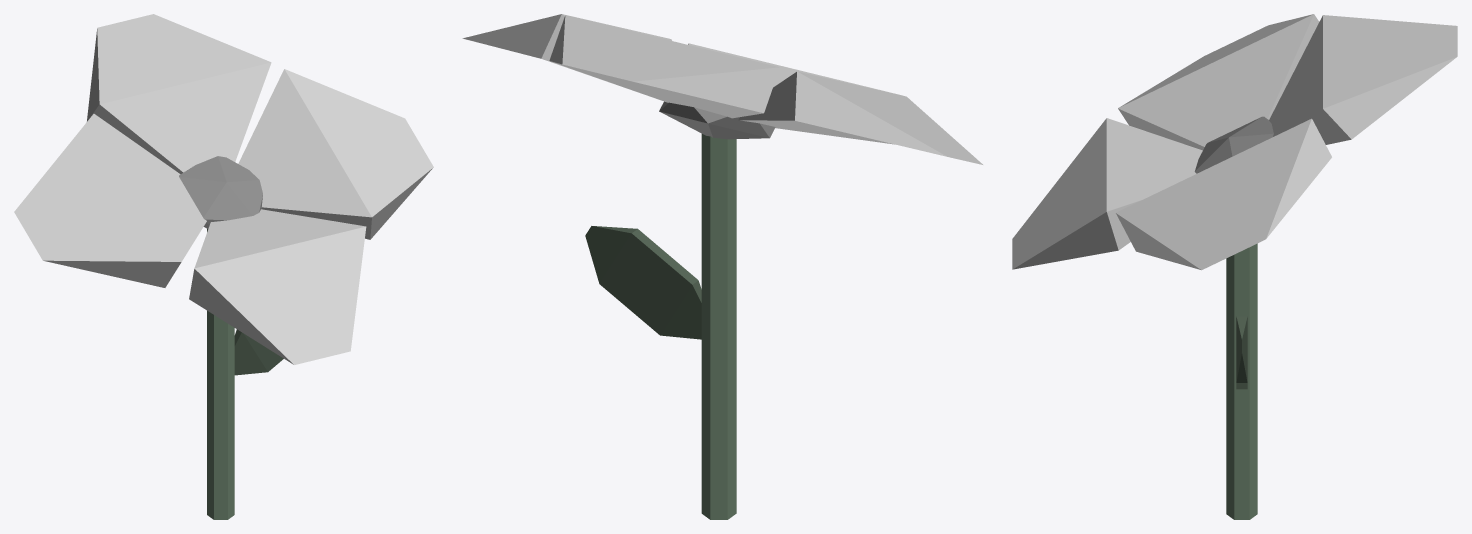
Rendered from Flower_2_White.fbx.
3 renders of one model, left to right at view 1: azimuth 30°, elevation 25°; view 2: azimuth 150°, elevation 25°; view 3: azimuth 270°, elevation 25°, orthographic. The views are drawn at different scales.
Parts seen in each view (by area): view 1: Flower_2_White; view 2: Flower_2_White; view 3: Flower_2_White.
Part boxes in pixels (bbox=[...]): Flower_2_White: bbox=[14, 14, 433, 519]; Flower_2_White: bbox=[462, 14, 982, 519]; Flower_2_White: bbox=[1012, 14, 1457, 519].
Bounding box in the file's own units: 45.18 × 46.83 × 39.92.
